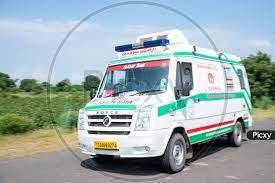ER: (78, 28, 252, 172)
